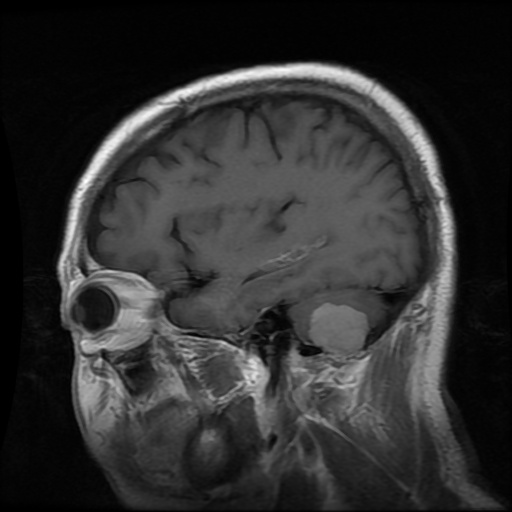meningioma: (309, 302, 368, 358)
